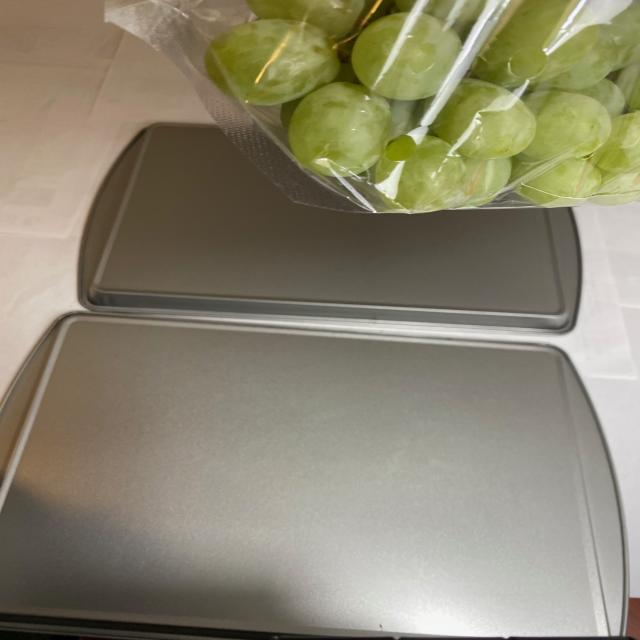grapes: (193, 5, 638, 222)
